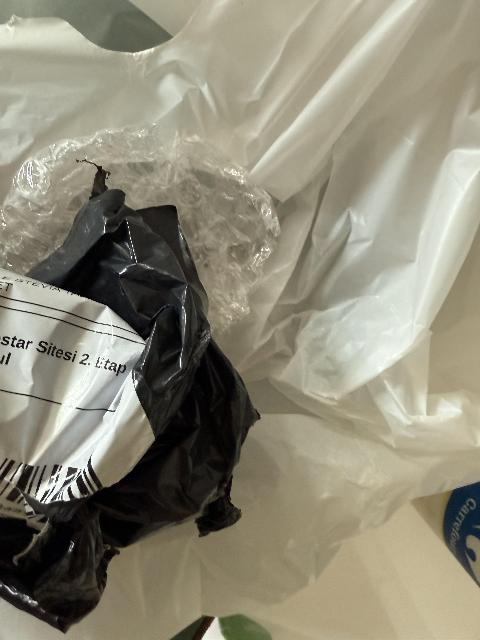Plastik: (0, 122, 313, 632)
